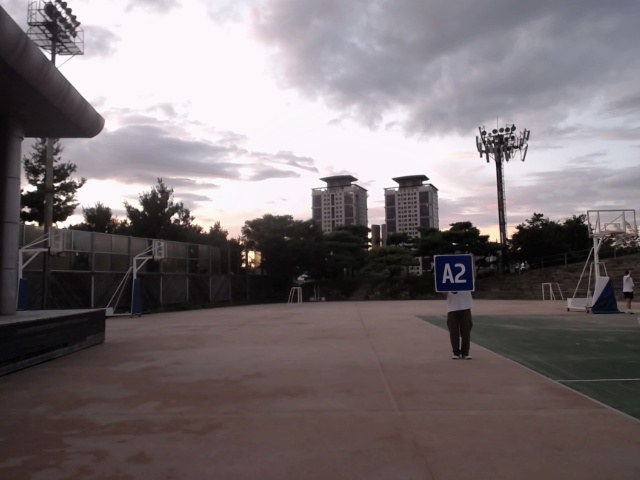delivery_a2: (434, 255, 474, 292)
